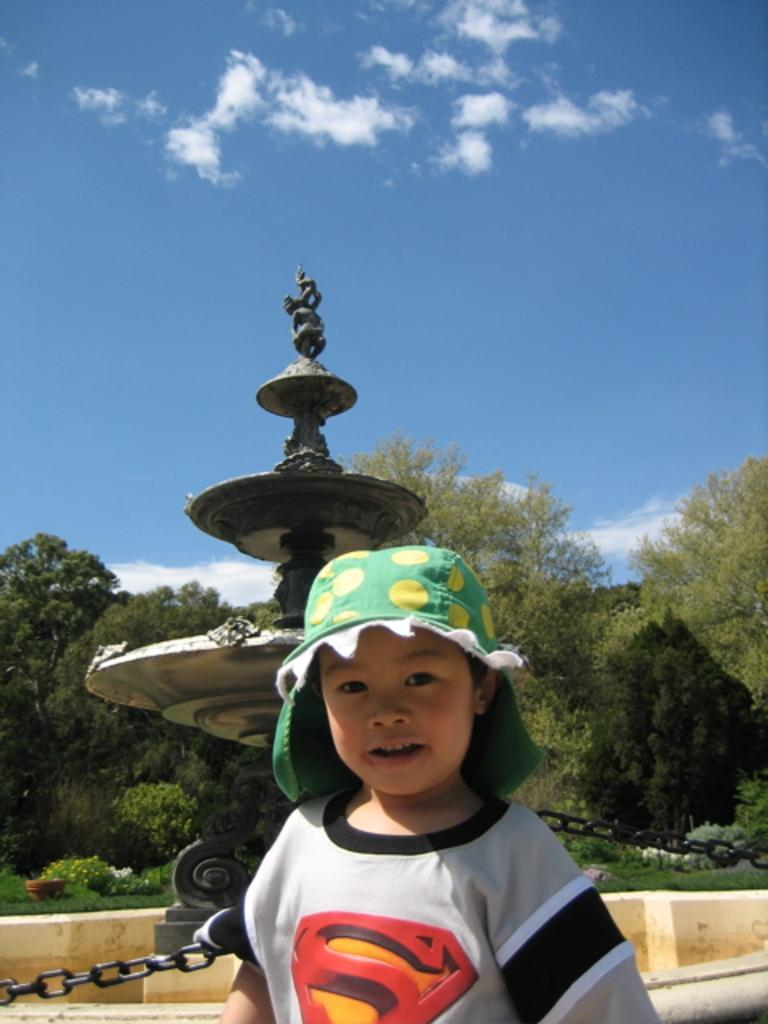Hat: (268, 544, 550, 804)
